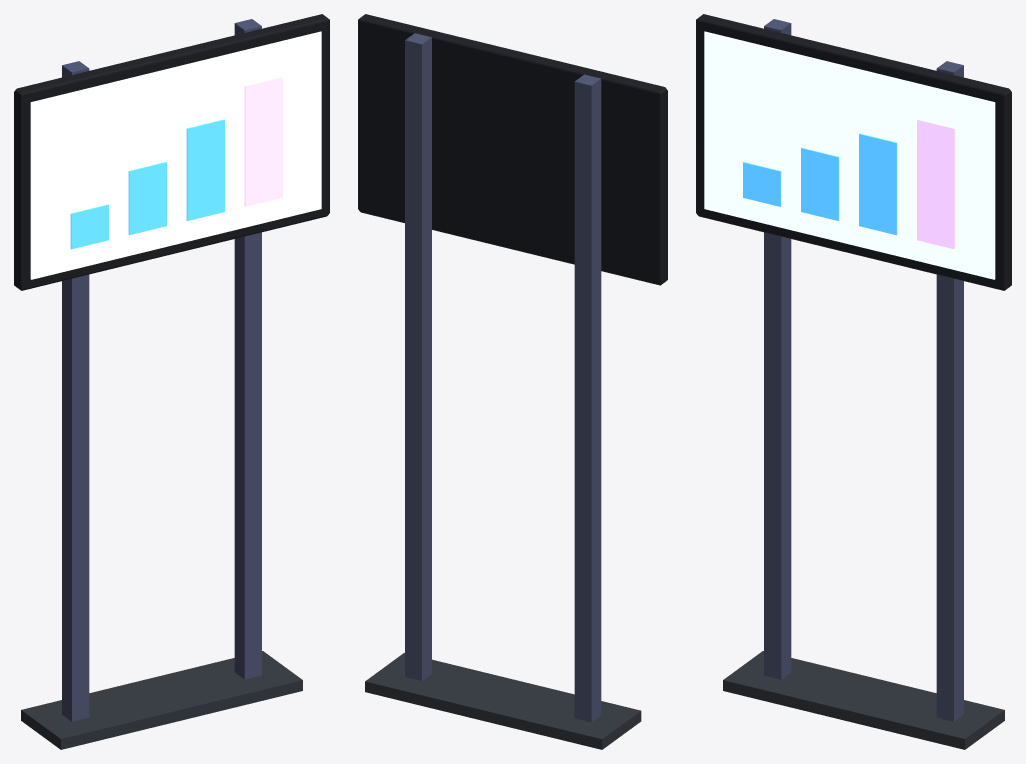
File: station_special_ausstattung_3_2.glb
3 renders of one model, left to right at view 1: azimuth 30°, elevation 25°; view 2: azimuth 150°, elevation 25°; view 3: azimuth 330°, elevation 25°, orthographic.
Parts seen in each view (by area): view 1: station_special_ausstattung_3_2; view 2: station_special_ausstattung_3_2; view 3: station_special_ausstattung_3_2.
Boxes of the visible parts, bbox=[...] form: station_special_ausstattung_3_2: bbox=[14, 14, 329, 749]; station_special_ausstattung_3_2: bbox=[358, 14, 667, 749]; station_special_ausstattung_3_2: bbox=[696, 14, 1011, 749].
Size of the model in its own units: 0.9 by 1.83 by 0.2.
